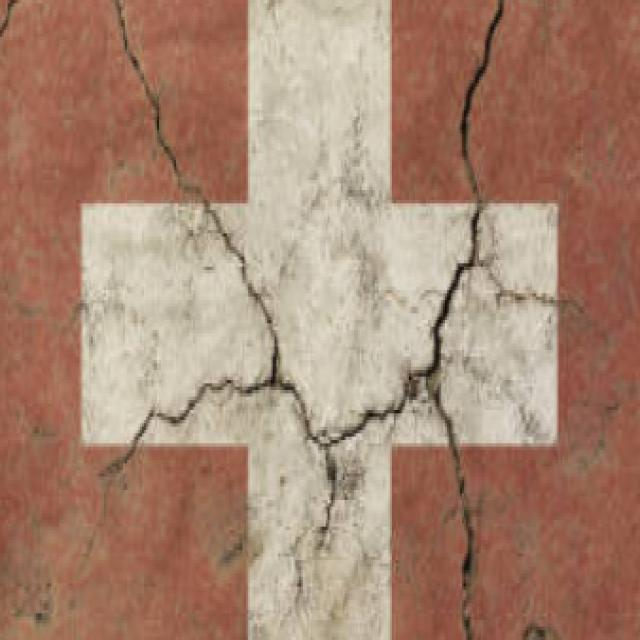branched cracks: (106, 0, 504, 639)
